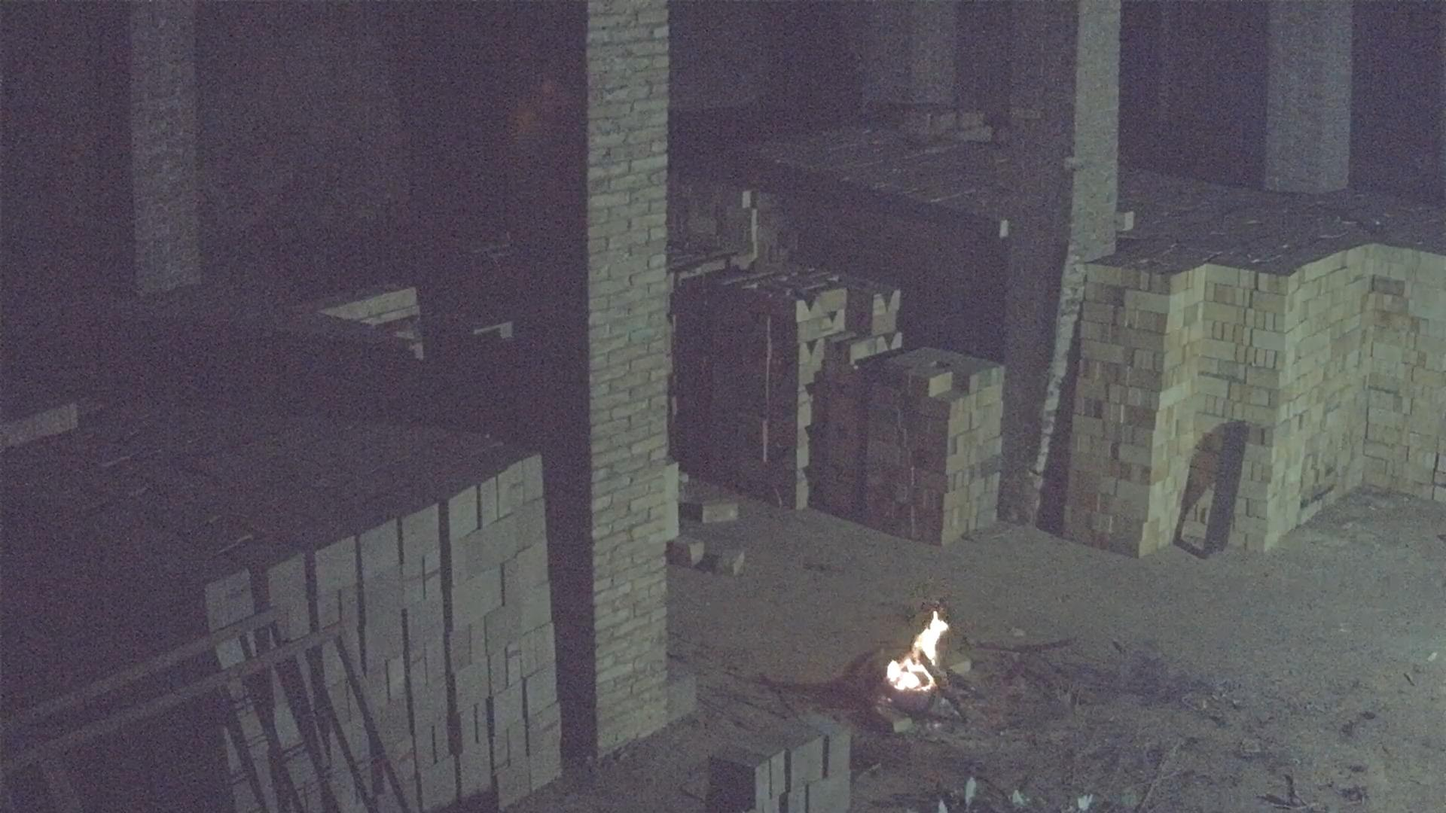fire: (885, 611, 950, 693)
